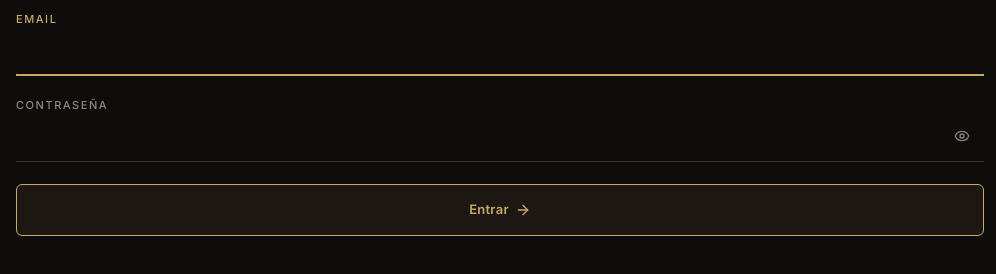
Test: formulario de login › avisa de Bloq Mayús, que si no el fallo no tiene explicación
Click the password field labelled "Contraseña" at [500, 140], box [16,118,984,162]
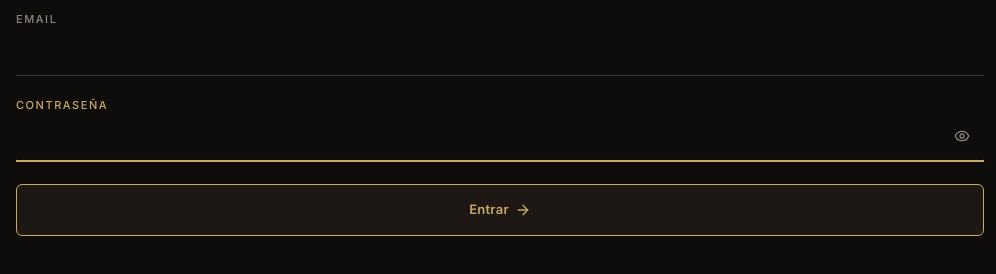
Expected: the text "Tienes Bloq Mayús activado." is not shown
Type keys "{CapsLock}a"
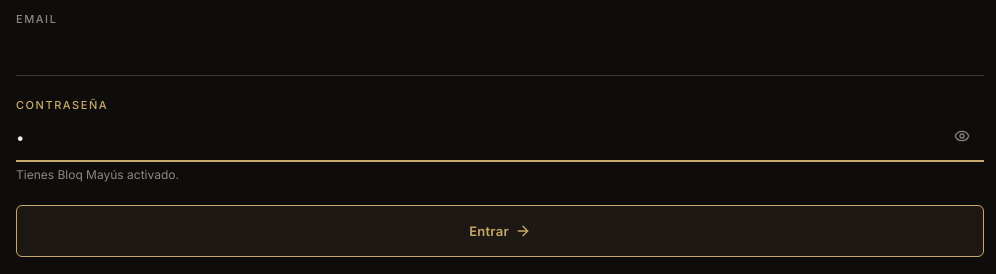
Expected: the text "Tienes Bloq Mayús activado." is shown, [16,167,179,182]
Type keys "{CapsLock}b"
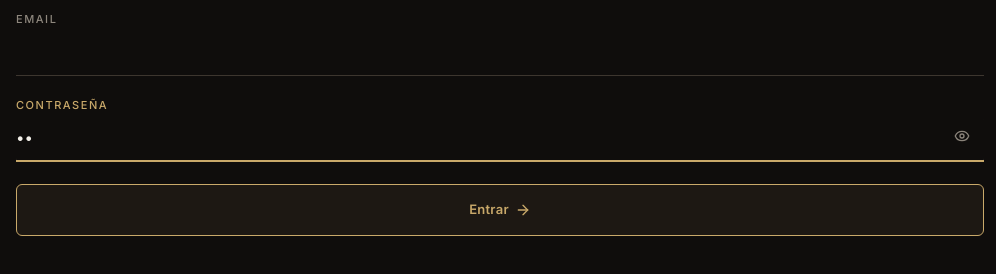
Expected: the text "Tienes Bloq Mayús activado." is gone
